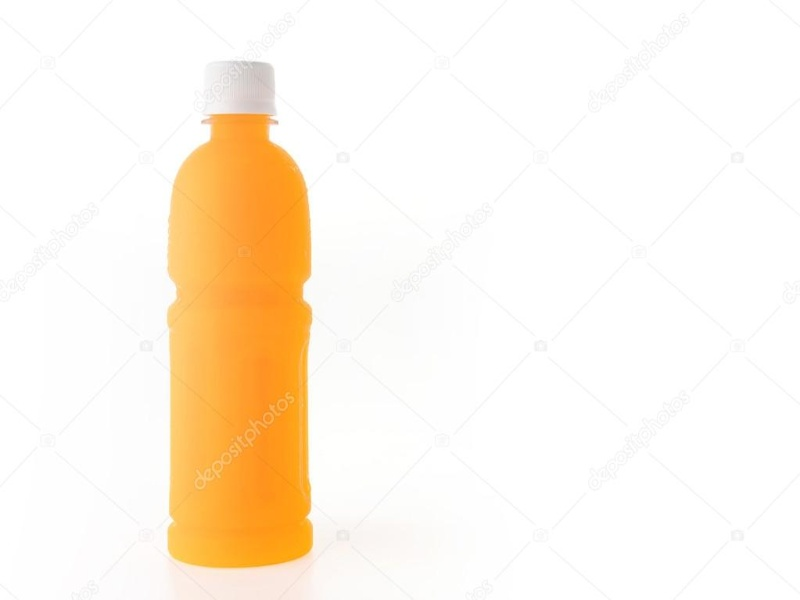Jugo de naranja: (167, 61, 314, 567)
